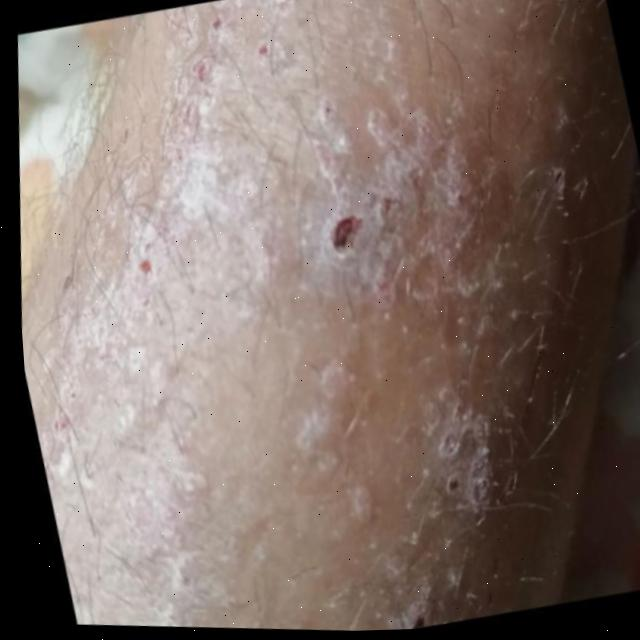Eczema: (164, 112, 505, 544)
